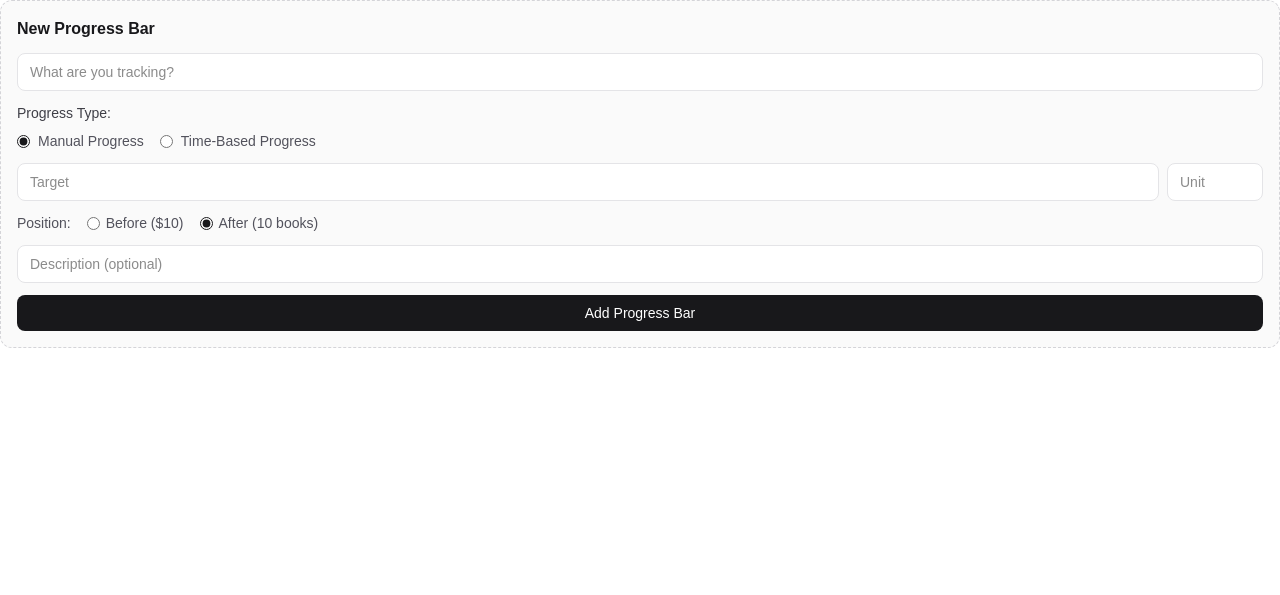
Test: CreateBarForm › shows time-based fields when time-based is selected
# Select time-based progress
What coordinates should you click on to do the following:
click the radio button labelled "Time-Based Progress"
I would click on:
 (166, 141)
Its box is [160,134,173,148].
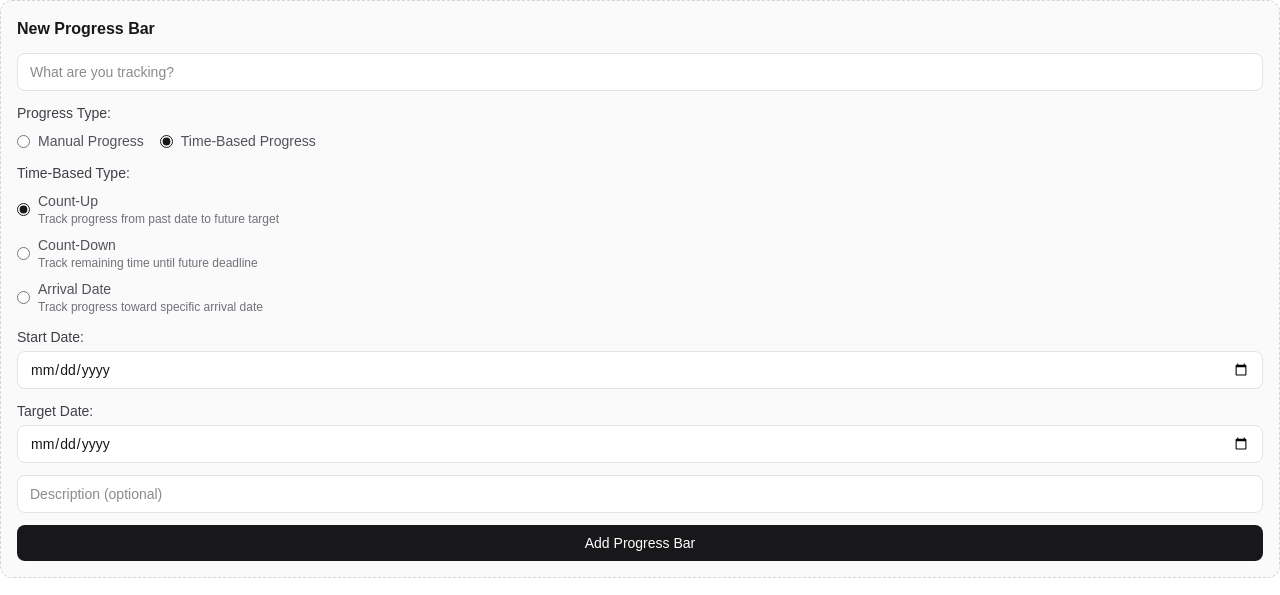
Result: the text "Count-Up" is shown at [38,193,98,209]
Result: the text "Count-Down" is shown at [38,237,116,253]
Result: the text "Arrival Date" is shown at [38,281,111,297]
